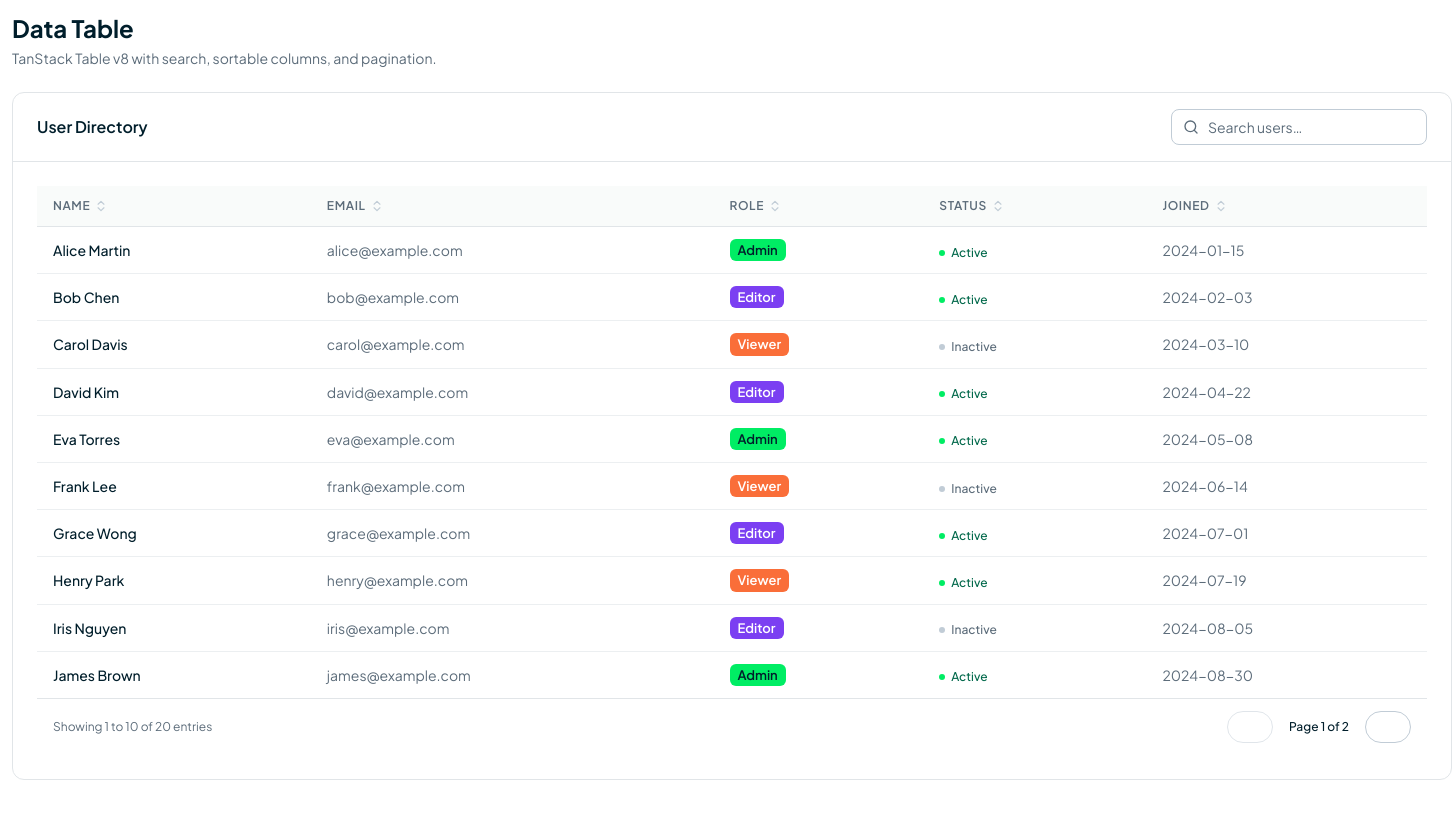
Test case: DataTablePage › filters rows when searching
In the field with placeholder "Search users…": (1299, 127) [1171,109,1427,145], type "Karen"
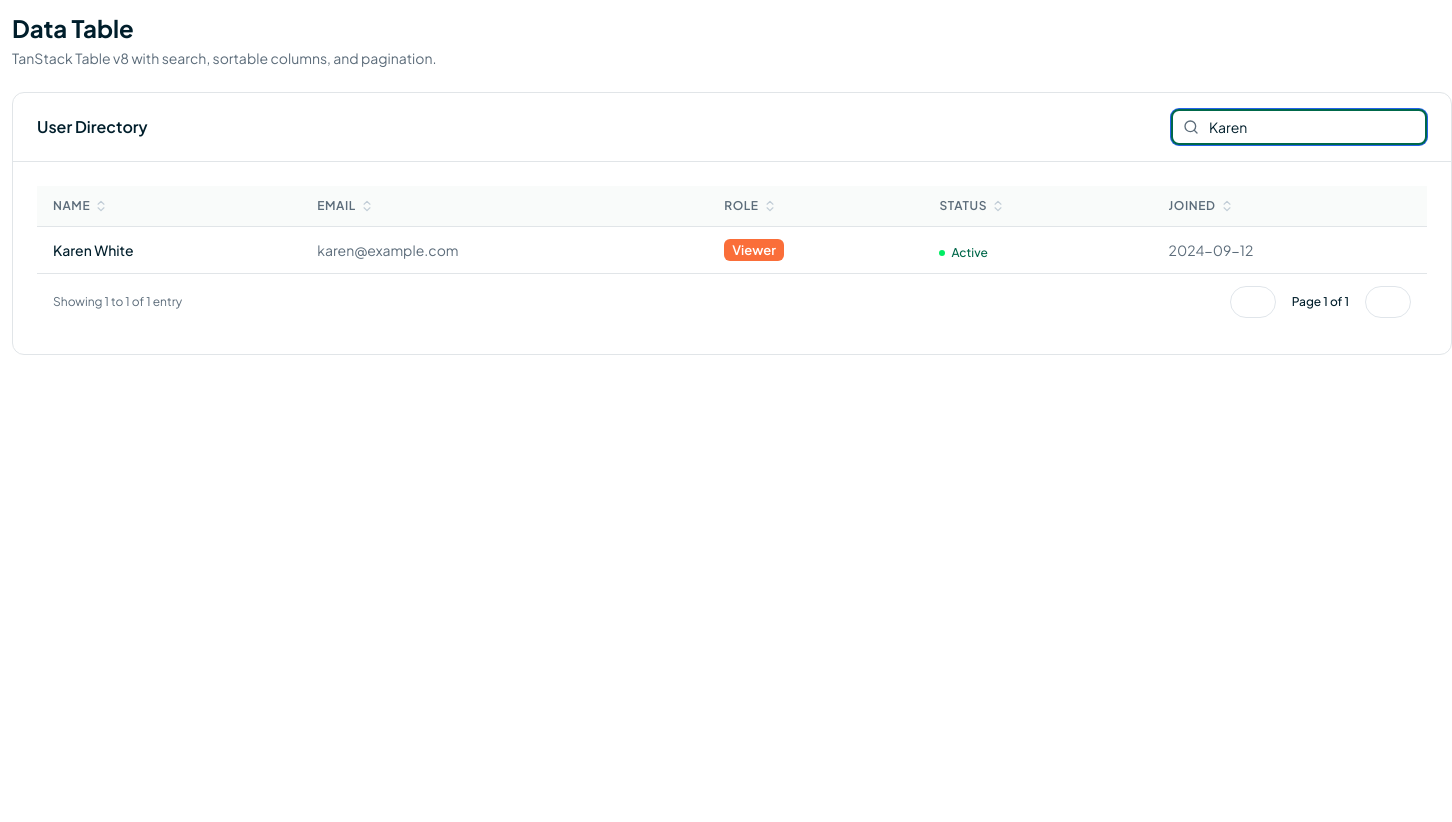
Expected: the text "Karen White" is shown, [53,241,134,259]
Expected: the text "Alice Martin" is gone
